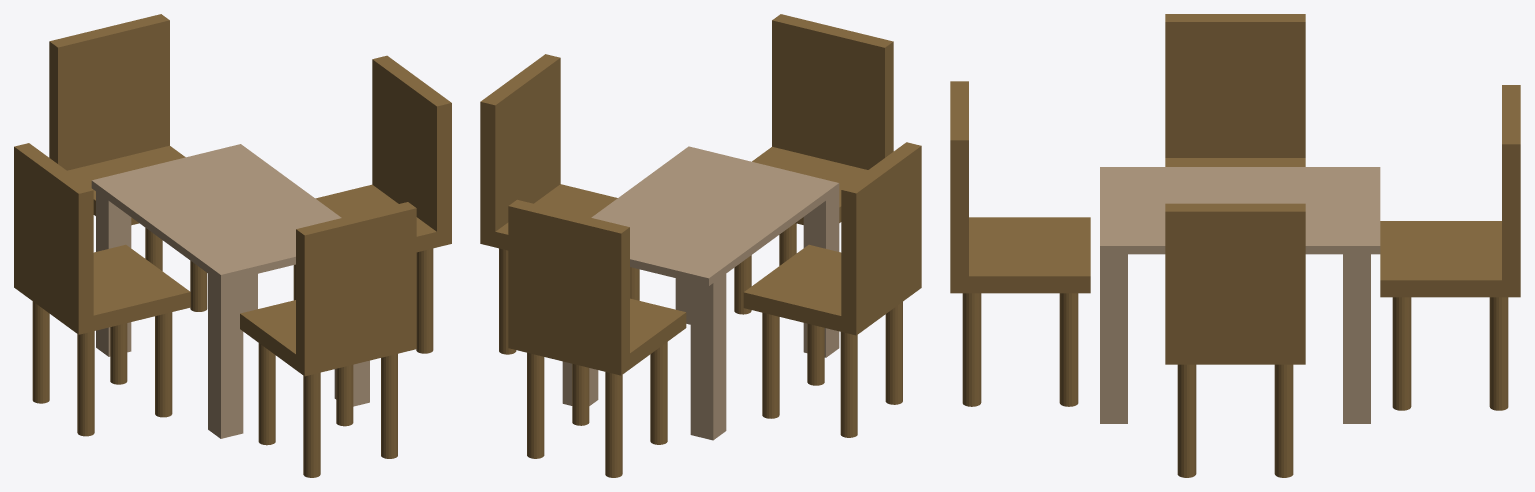
The model's file is table.glb.
The picture shows the model from 3 angles, left to right: view 1: azimuth 30°, elevation 25°; view 2: azimuth 150°, elevation 25°; view 3: azimuth 270°, elevation 25°; orthographic projection. The views are drawn at different scales.
Visible parts, largest first — view 1: Mesh_Mesh_head_geo.001_lambert2SG.001; view 2: Mesh_Mesh_head_geo.001_lambert2SG.001; view 3: Mesh_Mesh_head_geo.001_lambert2SG.001.
Part boxes in pixels (box(x1,y1,x2,y2)): Mesh_Mesh_head_geo.001_lambert2SG.001: box(14, 14, 451, 477); Mesh_Mesh_head_geo.001_lambert2SG.001: box(480, 14, 921, 477); Mesh_Mesh_head_geo.001_lambert2SG.001: box(950, 14, 1520, 477).
Bounding box in the file's own units: 0.05 × 0.0321 × 0.061.
